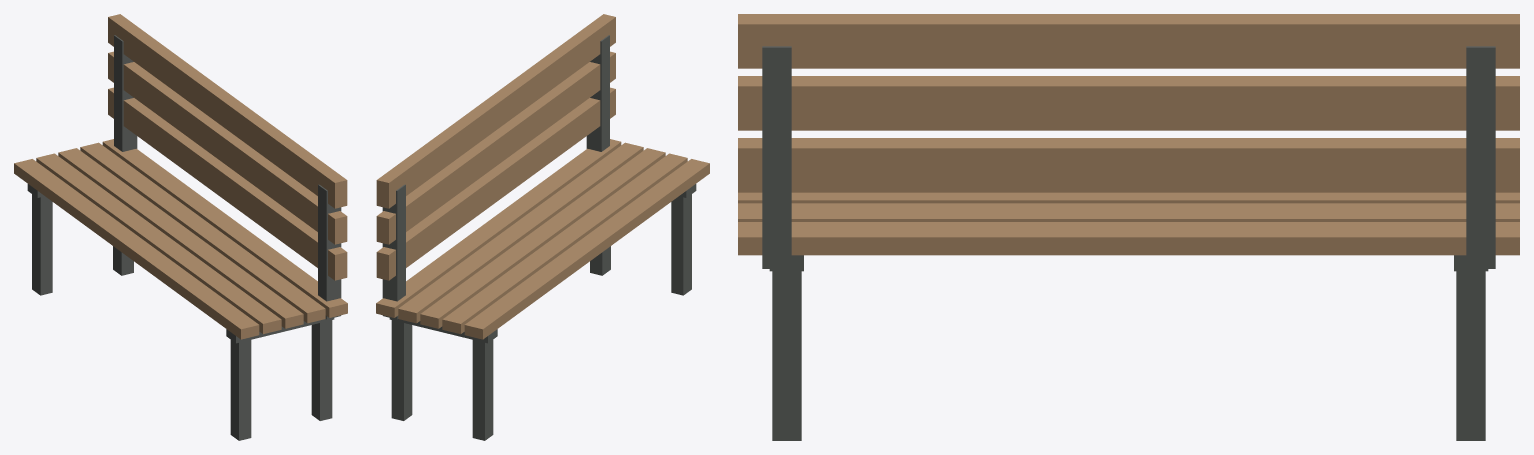
The model's file is bench.glb.
3 renders of one model, left to right at view 1: azimuth 30°, elevation 25°; view 2: azimuth 150°, elevation 25°; view 3: azimuth 270°, elevation 25°, orthographic. The views are drawn at different scales.
Visible parts, largest first — view 1: bench; view 2: bench; view 3: bench.
Part boxes in pixels (box(x1,y1,x2,y2)): bench: box(14, 14, 347, 440); bench: box(376, 14, 709, 440); bench: box(738, 14, 1519, 440).
Bounding box in the file's own units: 0.4375 × 0.95 × 1.6.
